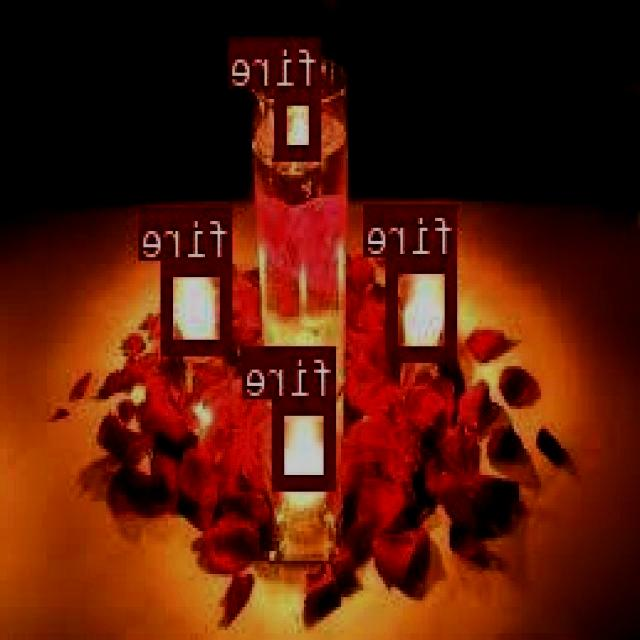fire: (390, 255, 459, 356), (165, 260, 233, 350), (275, 397, 337, 485), (278, 88, 322, 155)
